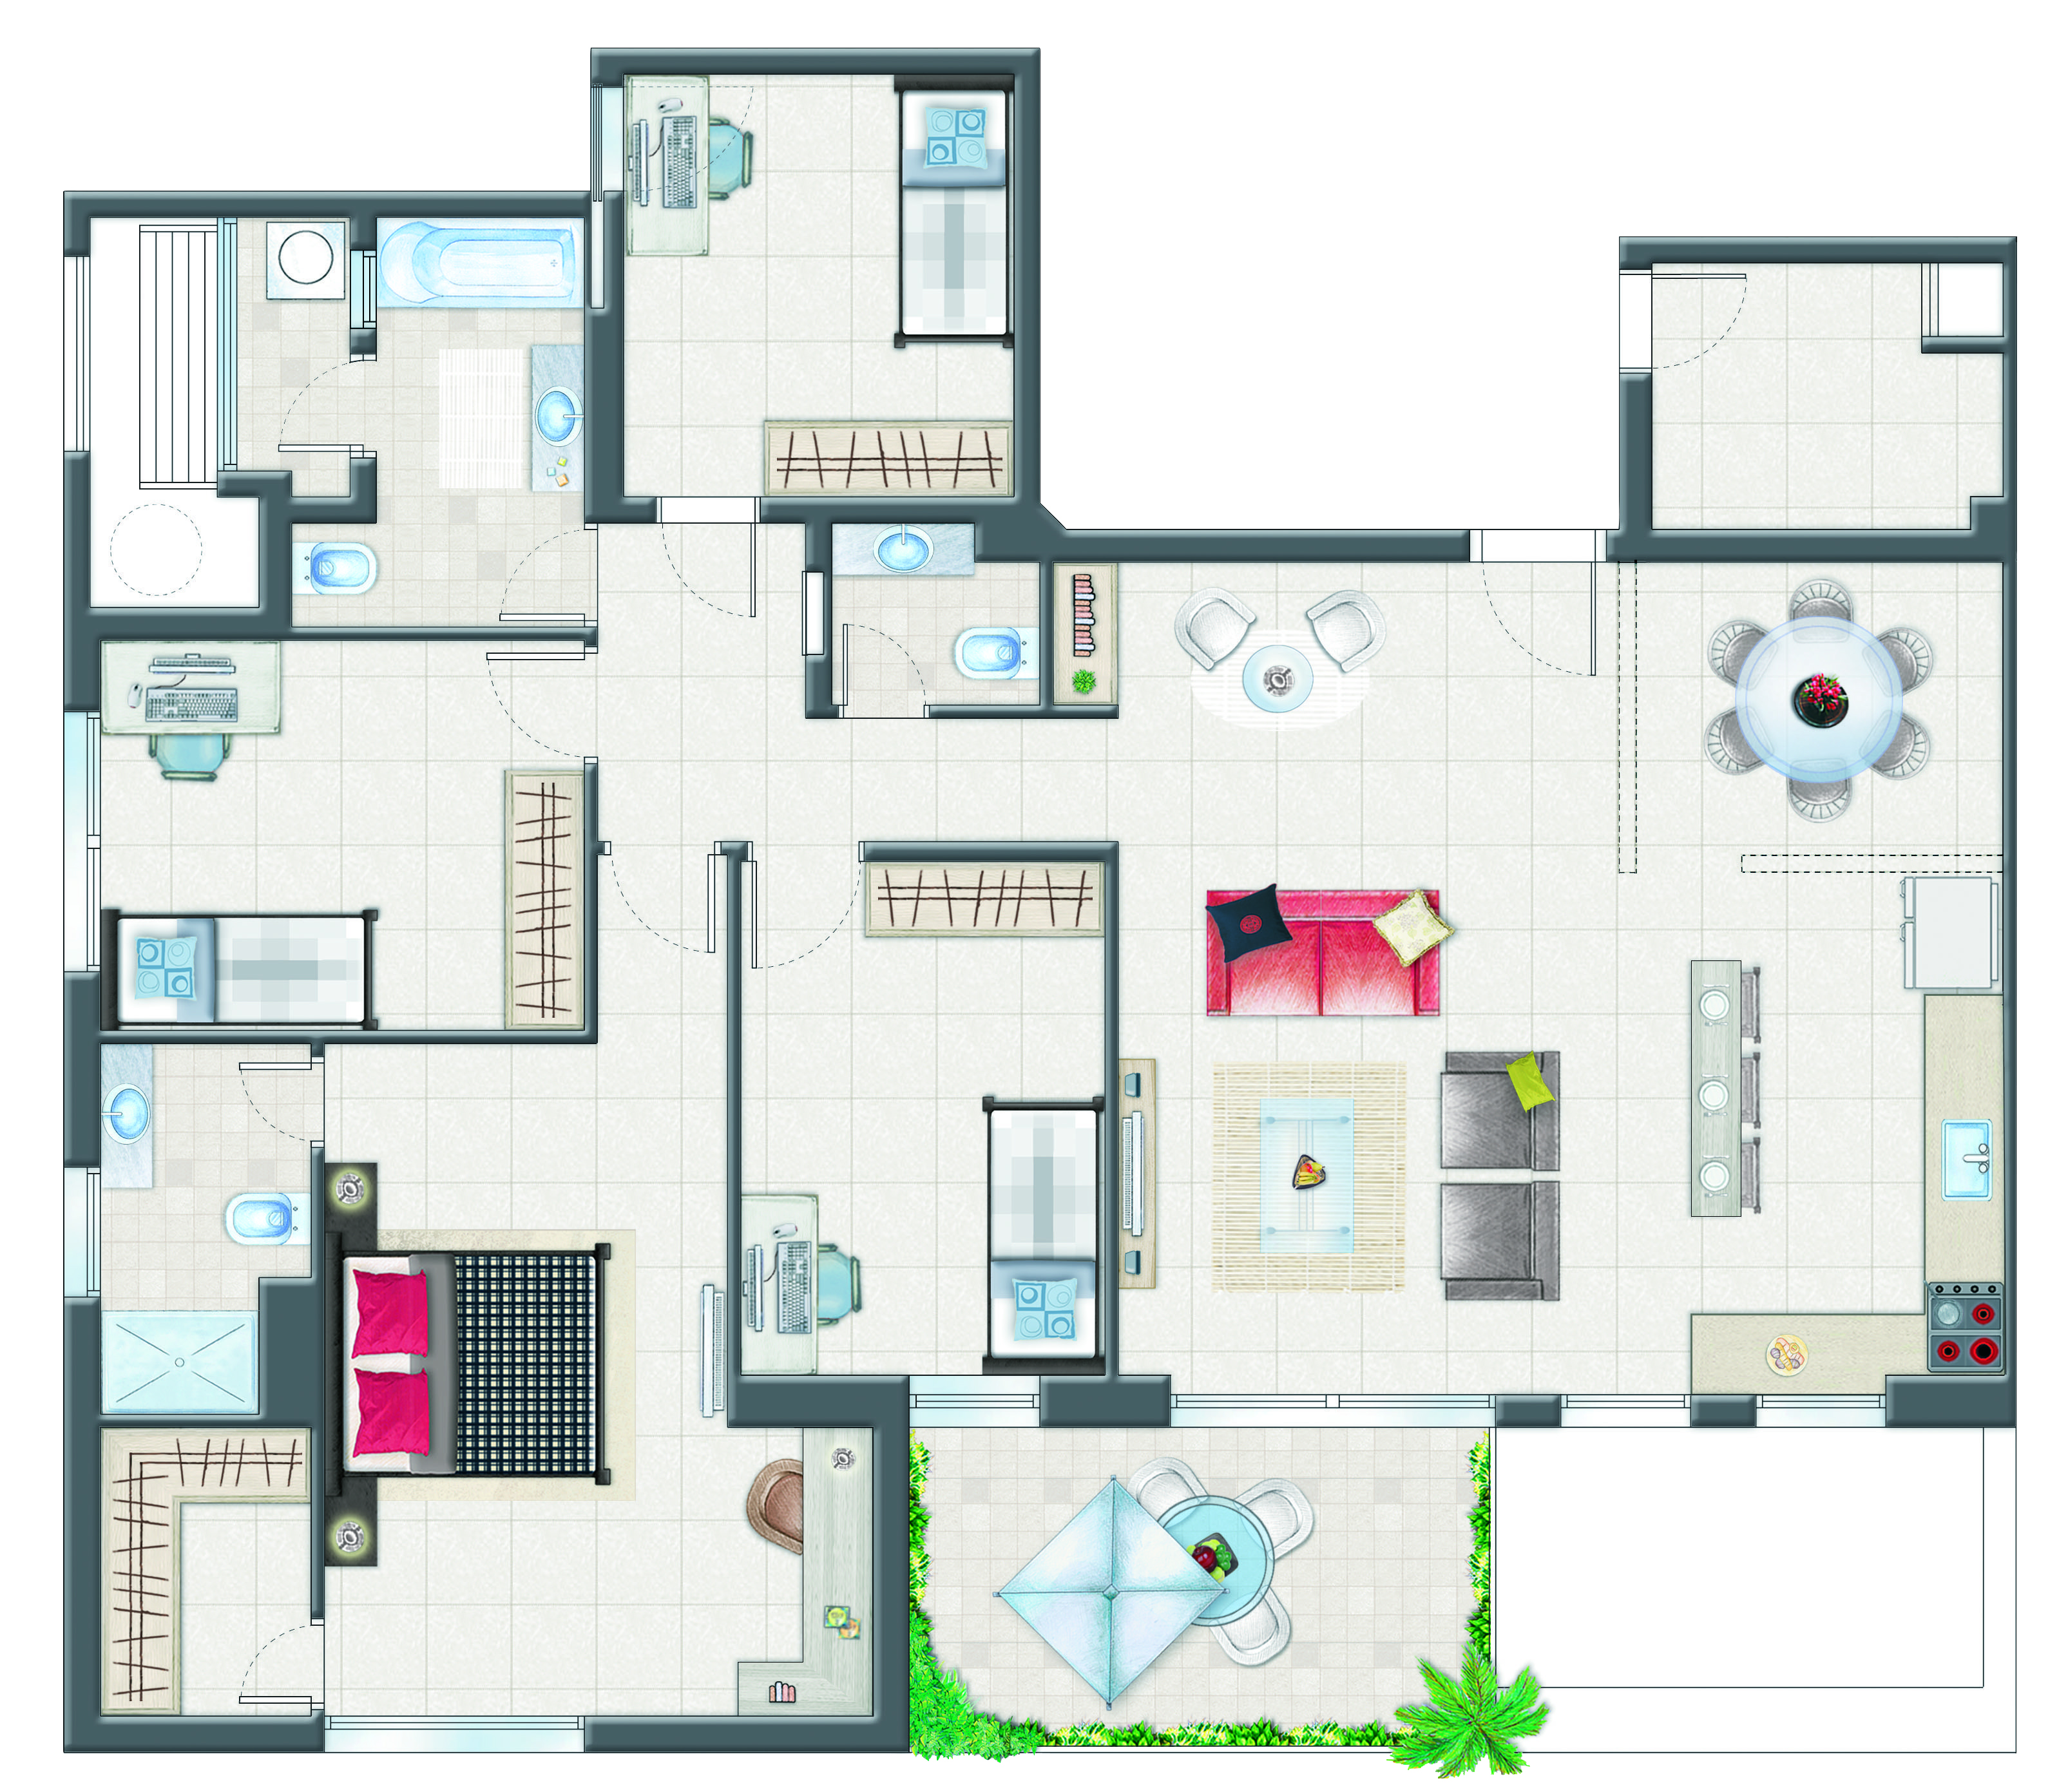door: (748, 868, 856, 994), (1476, 579, 1609, 681), (1660, 266, 1777, 378), (604, 866, 723, 970), (476, 644, 574, 754), (653, 534, 769, 623), (488, 518, 574, 625), (259, 355, 341, 464), (837, 614, 931, 698), (233, 1057, 308, 1151), (224, 1622, 303, 1706)
wall: (84, 191, 594, 217), (61, 1419, 100, 1750), (592, 47, 1028, 75), (1607, 530, 2015, 560), (1014, 47, 1040, 501), (583, 1717, 912, 1752), (2001, 562, 2015, 1351), (872, 1423, 909, 1722), (1620, 236, 2015, 261), (259, 1276, 322, 1425), (61, 1719, 324, 1754), (583, 308, 623, 525), (730, 1376, 907, 1425), (727, 844, 742, 1379), (61, 971, 100, 1165), (96, 1029, 597, 1043), (1886, 1374, 2013, 1428), (89, 607, 291, 640), (63, 453, 88, 709), (1620, 373, 1651, 532), (294, 625, 595, 640), (583, 763, 601, 1029), (259, 473, 291, 611), (2003, 242, 2017, 539), (310, 1426, 326, 1617), (604, 193, 627, 308), (289, 495, 376, 523), (310, 1148, 324, 1272), (65, 193, 86, 256)
window: (327, 1713, 583, 1752), (907, 1374, 1040, 1425), (217, 217, 240, 471), (1171, 1397, 1336, 1428), (65, 256, 91, 452), (1338, 1395, 1492, 1426), (65, 711, 102, 840), (65, 840, 100, 970), (1562, 1395, 1691, 1428), (1758, 1397, 1882, 1426), (590, 82, 622, 193), (350, 252, 376, 331)
